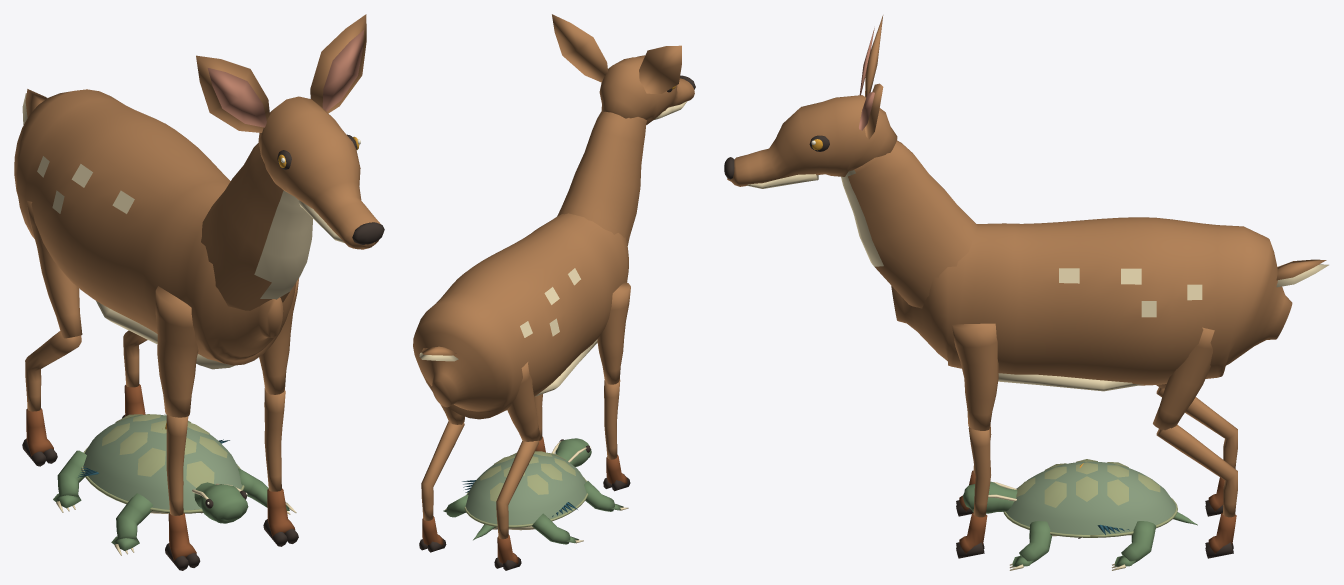
File: haven-wildlife.glb
3 renders of one model, left to right at view 1: azimuth 30°, elevation 25°; view 2: azimuth 150°, elevation 25°; view 3: azimuth 270°, elevation 25°, orthographic. The views are drawn at different scales.
Parts seen in each view (by area): view 1: deer_BodyPivot_Fawn, deer_HeadPivot_Fawn, deer_NeckPivot_Fawn, terrapin_BodyPivot_Shell, deer_Leg_FL_Fawn, deer_NeckPivot_Cream, deer_HeadPivot_Rose, terrapin_BodyPivot_Scute, deer_Leg_BL_Fawn, deer_BodyPivot_Cream, deer_Knee_FL_Fawn, deer_Knee_BL_Fawn (+12 smaller); view 2: deer_BodyPivot_Fawn, deer_NeckPivot_Fawn, deer_HeadPivot_Fawn, terrapin_BodyPivot_Shell, deer_Leg_FL_Fawn, terrapin_BodyPivot_Scute, deer_Knee_BR_Fawn, deer_Knee_BL_Fawn, deer_Leg_BL_Fawn, deer_Knee_FL_Fawn, deer_BodyPivot_Cream, terrapin_HeadPivot_Moss (+5 smaller); view 3: deer_BodyPivot_Fawn, deer_NeckPivot_Fawn, deer_HeadPivot_Fawn, terrapin_BodyPivot_Shell, deer_Leg_FR_Fawn, terrapin_BodyPivot_Scute, deer_Leg_BR_Fawn, deer_BodyPivot_Cream, deer_Knee_BR_Fawn, deer_Knee_FR_Fawn, deer_Knee_BL_Fawn, terrapin_Leg_BR_Moss (+3 smaller).
Boxes of the visible parts, bbox=[...] form: deer_BodyPivot_Fawn: bbox=[14, 89, 296, 365]; deer_HeadPivot_Fawn: bbox=[196, 14, 380, 249]; deer_NeckPivot_Fawn: bbox=[201, 143, 289, 310]; terrapin_BodyPivot_Shell: bbox=[83, 415, 242, 510]; deer_Leg_FL_Fawn: bbox=[155, 286, 198, 417]; deer_NeckPivot_Cream: bbox=[254, 190, 312, 299]; deer_HeadPivot_Rose: bbox=[207, 30, 364, 127]; terrapin_BodyPivot_Scute: bbox=[81, 414, 244, 513]; deer_Leg_BL_Fawn: bbox=[26, 200, 82, 338]; deer_BodyPivot_Cream: bbox=[37, 156, 235, 369]; deer_Knee_FL_Fawn: bbox=[166, 414, 188, 515]; deer_Knee_BL_Fawn: bbox=[25, 331, 81, 411]; deer_BodyPivot_Fawn: bbox=[413, 213, 628, 419]; deer_NeckPivot_Fawn: bbox=[557, 111, 646, 245]; deer_HeadPivot_Fawn: bbox=[552, 14, 694, 124]; terrapin_BodyPivot_Shell: bbox=[465, 454, 586, 525]; deer_Leg_FL_Fawn: bbox=[597, 282, 630, 384]; terrapin_BodyPivot_Scute: bbox=[464, 451, 588, 527]; deer_Knee_BR_Fawn: bbox=[421, 421, 464, 520]; deer_Knee_BL_Fawn: bbox=[496, 440, 538, 539]; deer_Leg_BL_Fawn: bbox=[507, 362, 539, 441]; deer_Knee_FL_Fawn: bbox=[604, 379, 620, 459]; deer_BodyPivot_Cream: bbox=[520, 268, 597, 396]; terrapin_HeadPivot_Moss: bbox=[555, 438, 591, 466]; deer_BodyPivot_Fawn: bbox=[891, 217, 1292, 385]; deer_NeckPivot_Fawn: bbox=[848, 140, 978, 308]; deer_HeadPivot_Fawn: bbox=[727, 15, 897, 186]; terrapin_BodyPivot_Shell: bbox=[1006, 461, 1175, 534]; deer_Leg_FR_Fawn: bbox=[952, 323, 998, 430]; terrapin_BodyPivot_Scute: bbox=[1003, 459, 1177, 537]; deer_Leg_BR_Fawn: bbox=[1153, 327, 1214, 430]; deer_BodyPivot_Cream: bbox=[998, 268, 1202, 391]; deer_Knee_BR_Fawn: bbox=[1156, 424, 1237, 517]; deer_Knee_FR_Fawn: bbox=[968, 427, 990, 517]; deer_Knee_BL_Fawn: bbox=[1156, 387, 1237, 468]; terrapin_Leg_BR_Moss: bbox=[1114, 521, 1155, 566].
Bounding box in the file's own units: 0.6599 × 1.99 × 2.25.
